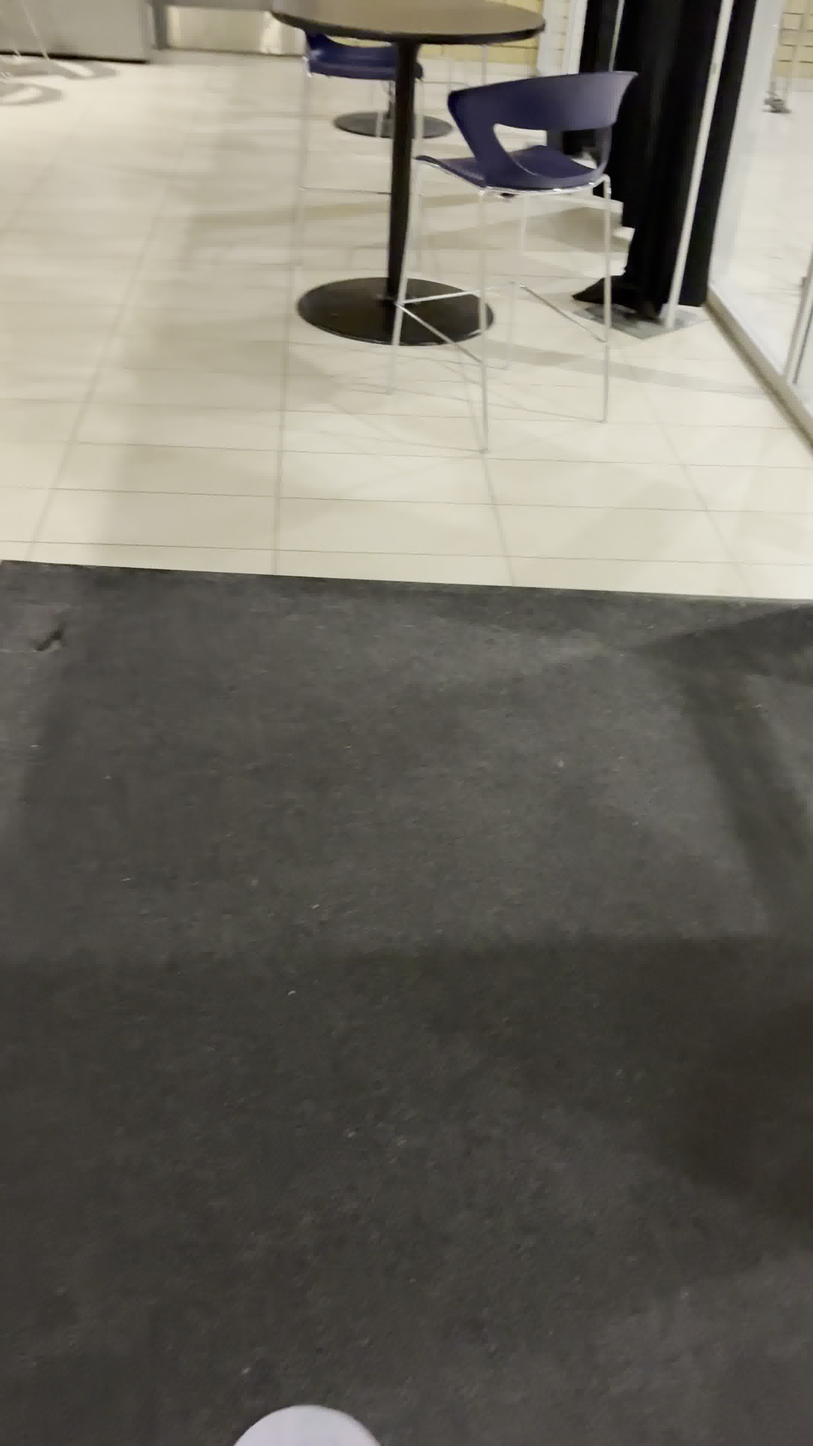Target: (221, 1389, 392, 1446)
